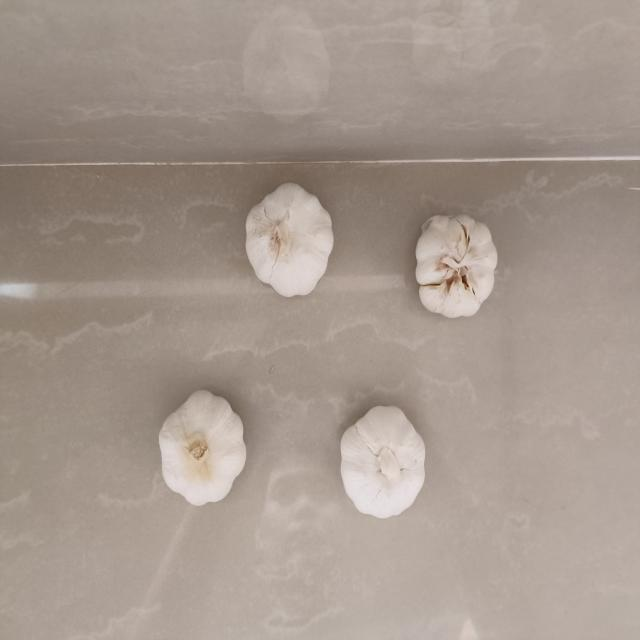garlic: (238, 181, 339, 303), (155, 388, 251, 513), (336, 401, 430, 521), (408, 208, 502, 323)
